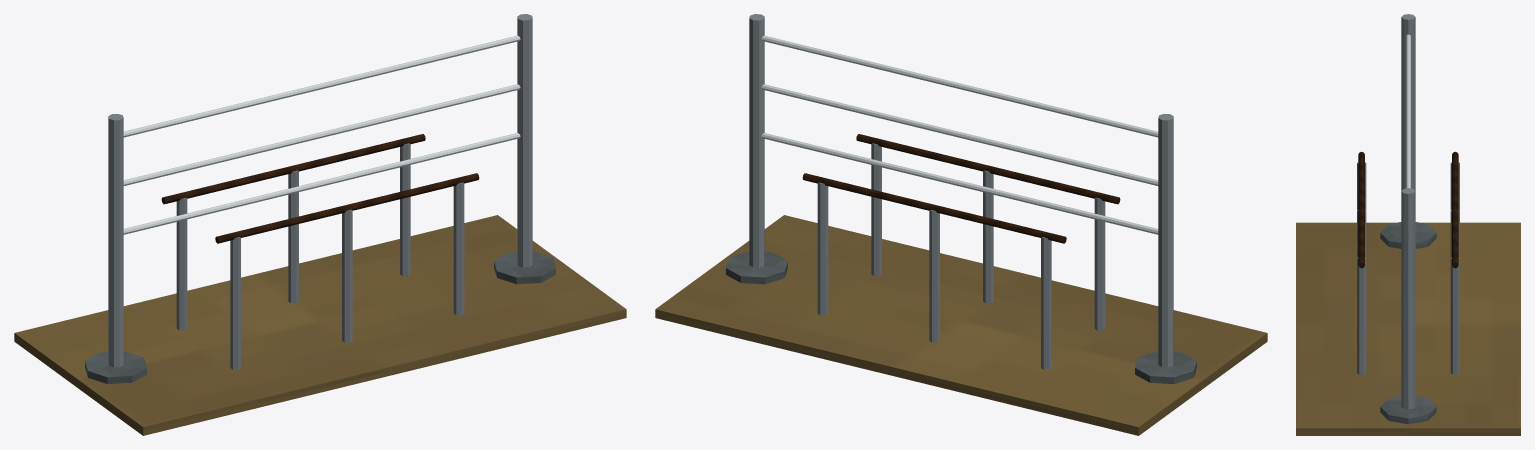
Rendered from fac_pullup.glb.
The picture shows the model from 3 angles, left to right: view 1: azimuth 30°, elevation 25°; view 2: azimuth 150°, elevation 25°; view 3: azimuth 270°, elevation 25°; orthographic projection. The views are drawn at different scales.
Visible parts, largest first — view 1: FAC_PULLUP; view 2: FAC_PULLUP; view 3: FAC_PULLUP.
Part boxes in pixels (<box>): FAC_PULLUP: <box>14,14,626,435</box>; FAC_PULLUP: <box>655,14,1267,435</box>; FAC_PULLUP: <box>1296,14,1520,435</box>.
Bounding box in the file's own units: 5.2 × 2.71 × 2.4.
5 materials, 3 textured.
